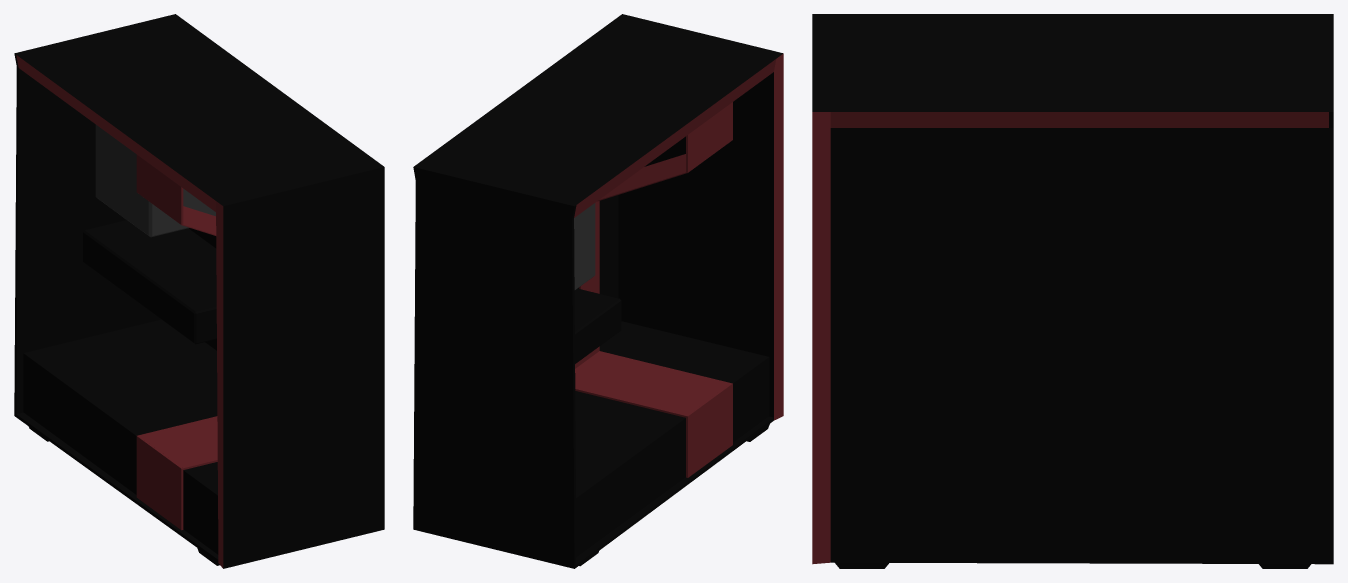
Rendered from Computer.glb.
The picture shows the model from 3 angles, left to right: view 1: azimuth 30°, elevation 25°; view 2: azimuth 150°, elevation 25°; view 3: azimuth 270°, elevation 25°; orthographic projection. The views are drawn at different scales.
Parts seen in each view (by area): view 1: Computer; view 2: Computer; view 3: Computer.
Part boxes in pixels (x1=…): Computer: x1=14, y1=14, x2=384, y2=568; Computer: x1=413, y1=14, x2=783, y2=568; Computer: x1=812, y1=14, x2=1333, y2=568.
Size of the model in its own units: 0.23 by 0.5023 by 0.516.
